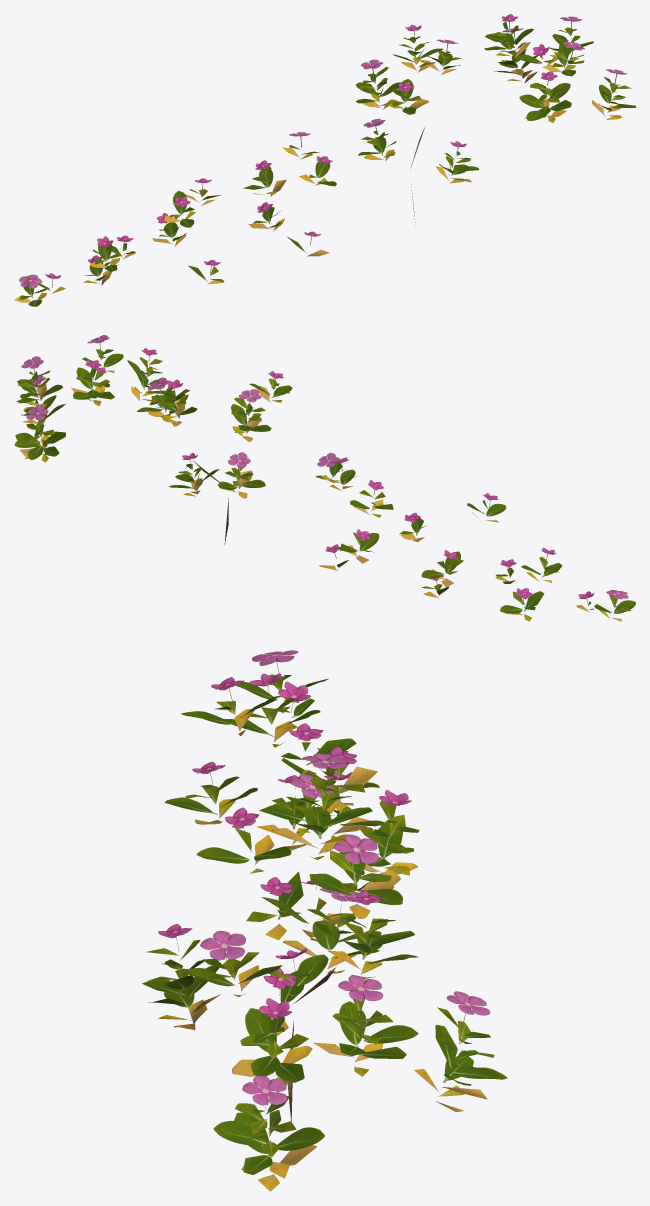
The model's file is periwinkle_plant_lod1.glb.
3 renders of one model, top to bottom at view 1: azimuth 30°, elevation 25°; view 2: azimuth 150°, elevation 25°; view 3: azimuth 270°, elevation 25°, orthographic. The views are drawn at different scales.
Visible parts, largest first — view 1: periwinkle_plant_01_LOD0, periwinkle_plant_02_LOD0, periwinkle_plant_03_LOD0, periwinkle_plant_04_LOD0, periwinkle_plant_05_LOD0, periwinkle_plant_06_LOD0; view 2: periwinkle_plant_01_LOD0, periwinkle_plant_02_LOD0, periwinkle_plant_03_LOD0, periwinkle_plant_04_LOD0, periwinkle_plant_05_LOD0, periwinkle_plant_06_LOD0; view 3: periwinkle_plant_01_LOD0, periwinkle_plant_02_LOD0, periwinkle_plant_03_LOD0, periwinkle_plant_04_LOD0, periwinkle_plant_05_LOD0, periwinkle_plant_06_LOD0.
Part boxes in pixels (x1,y1,x2,y2): periwinkle_plant_01_LOD0: [484, 14, 635, 122]; periwinkle_plant_02_LOD0: [355, 24, 478, 225]; periwinkle_plant_03_LOD0: [243, 132, 336, 256]; periwinkle_plant_04_LOD0: [152, 178, 224, 284]; periwinkle_plant_05_LOD0: [83, 235, 136, 285]; periwinkle_plant_06_LOD0: [14, 273, 65, 306]; periwinkle_plant_01_LOD0: [14, 335, 170, 462]; periwinkle_plant_02_LOD0: [137, 371, 292, 544]; periwinkle_plant_03_LOD0: [315, 452, 393, 570]; periwinkle_plant_04_LOD0: [399, 493, 506, 598]; periwinkle_plant_05_LOD0: [495, 547, 562, 621]; periwinkle_plant_06_LOD0: [576, 590, 635, 621]; periwinkle_plant_01_LOD0: [142, 891, 507, 1191]; periwinkle_plant_02_LOD0: [164, 753, 419, 1121]; periwinkle_plant_03_LOD0: [196, 774, 348, 1036]; periwinkle_plant_04_LOD0: [181, 677, 384, 939]; periwinkle_plant_05_LOD0: [224, 673, 379, 805]; periwinkle_plant_06_LOD0: [235, 650, 328, 731].
Bounding box in the file's own units: 1.24 × 0.3457 × 0.3207.
Materials: 1 (1 with a texture image).
